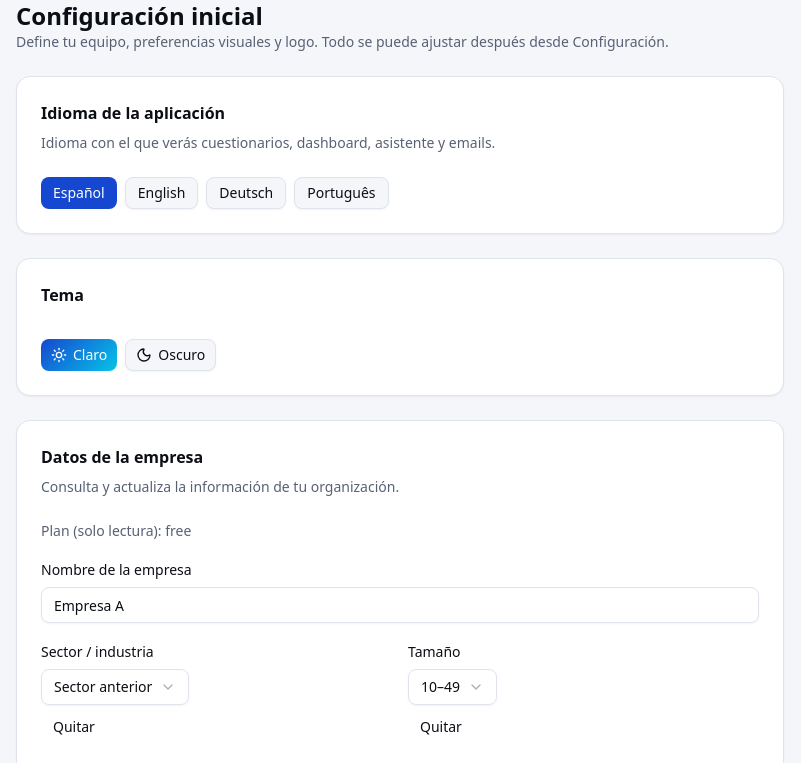
it: Settings organization profile › keeps edits after a failed PATCH and permits retrying
This screenshot has width=801, height=763.
Replace the text in the field labelled "Nombre de la empresa" with "Mi cambio": (400, 605) [41, 587, 759, 623]
(page scrolled)
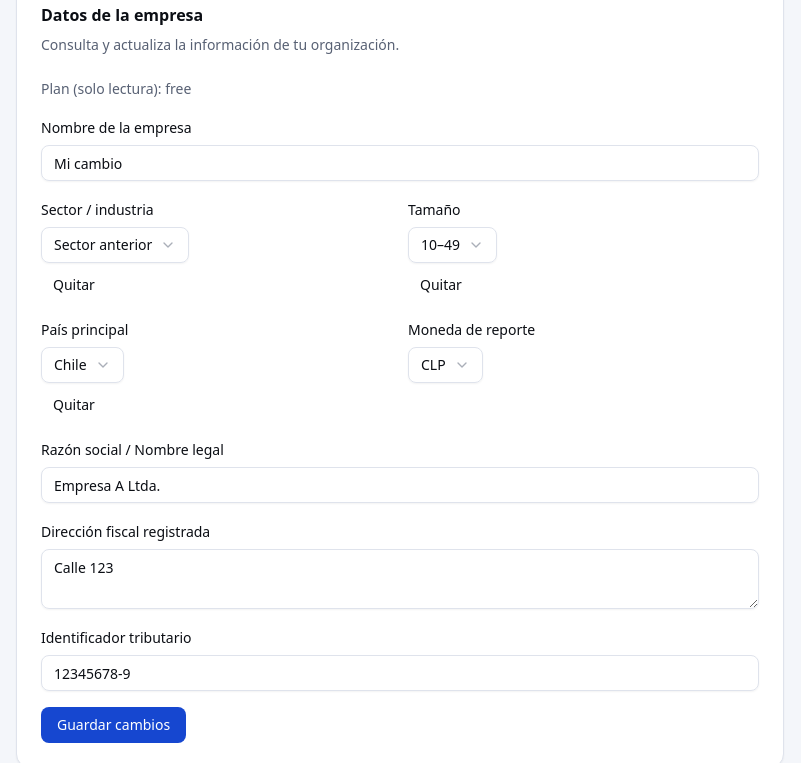
Click the button "Guardar cambios": (114, 725) [41, 707, 186, 743]
(page scrolled)
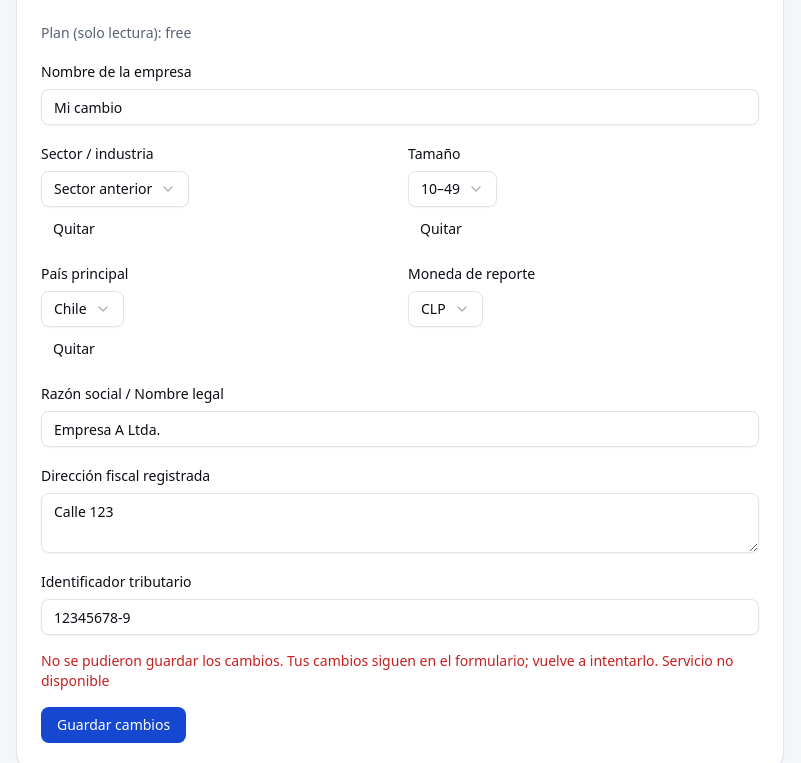
Check: the button "Guardar cambios" is enabled
Check: the message shows "Servicio no disponible", box [41, 651, 734, 690]
Click the button "Guardar cambios": (114, 725) [41, 707, 186, 743]
(page scrolled)
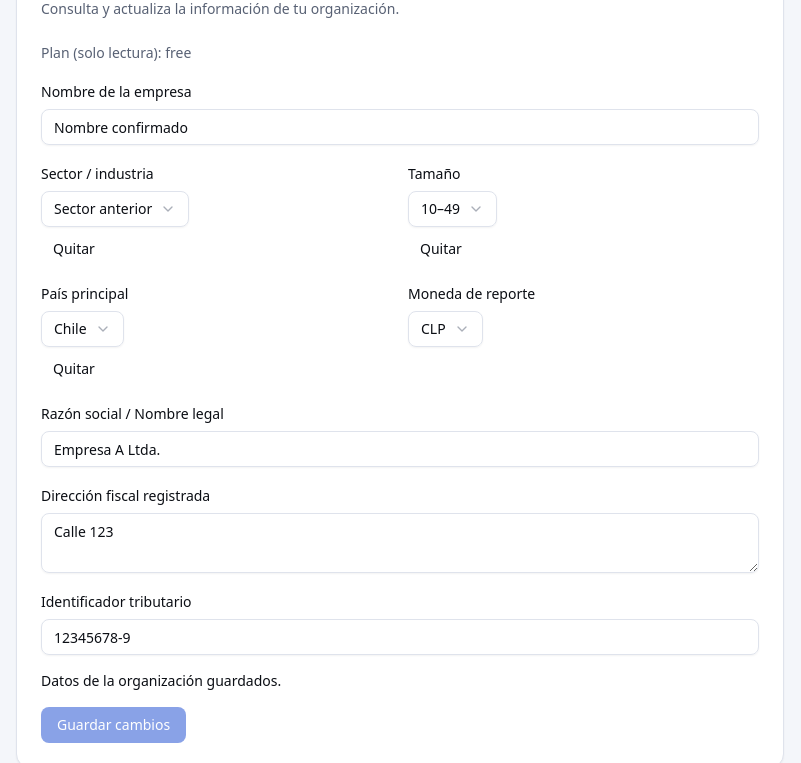
Check: the text "Datos de la organización guardados." is shown, box [41, 671, 281, 690]
